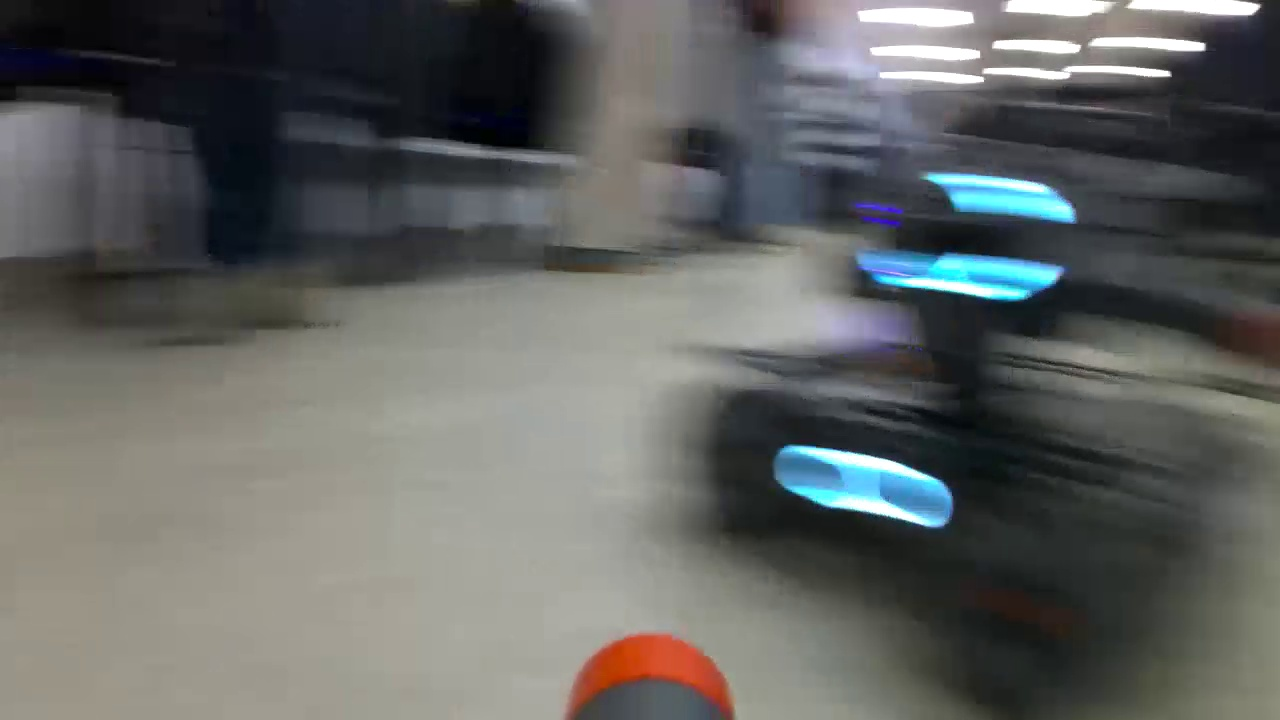robot: (691, 155, 1218, 675)
